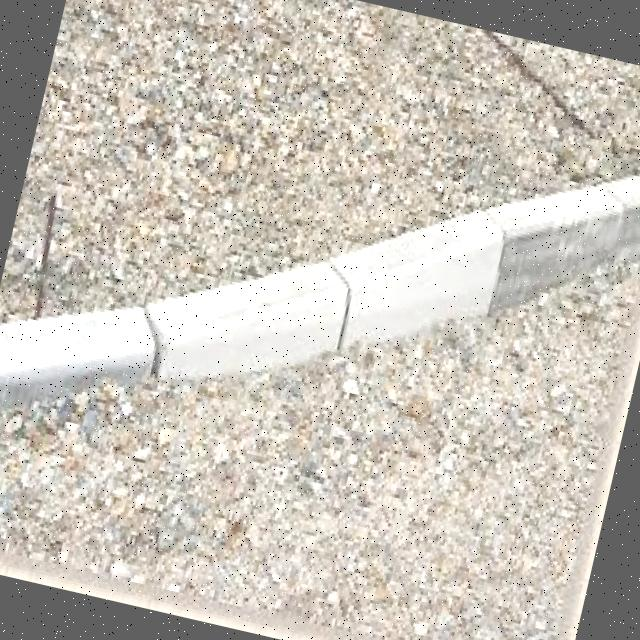curb: (1, 231, 229, 453), (232, 162, 440, 404), (438, 131, 640, 334)
